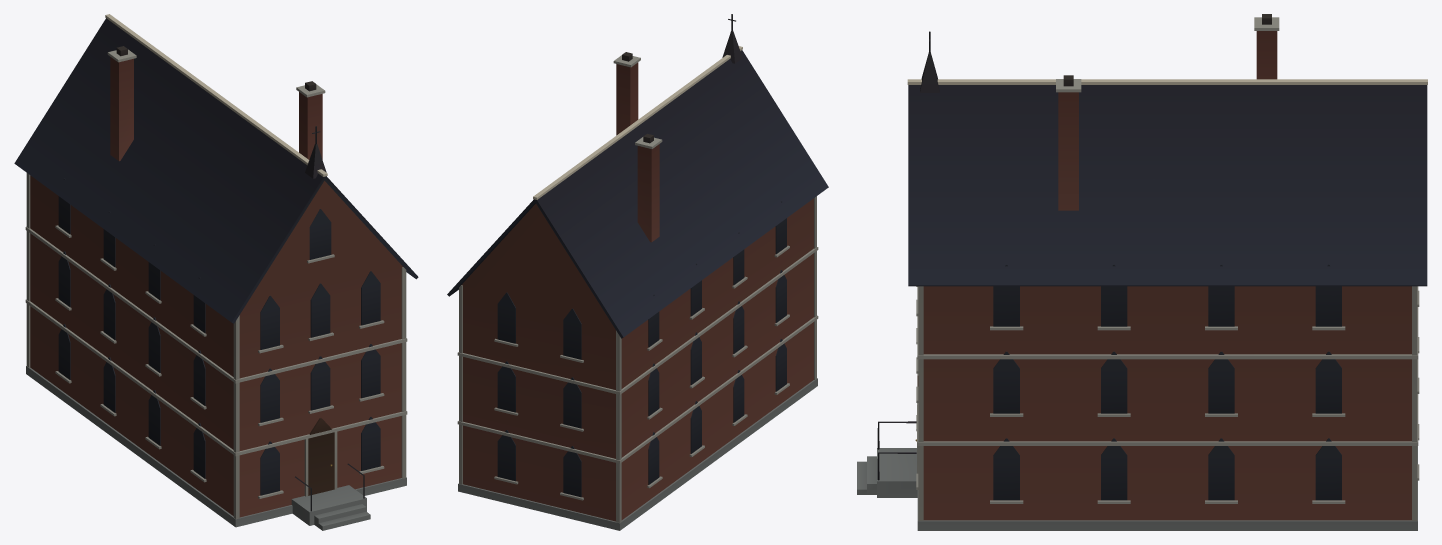
File: shell_wormwood_townhouse.glb
The picture shows the model from 3 angles, left to right: view 1: azimuth 30°, elevation 25°; view 2: azimuth 150°, elevation 25°; view 3: azimuth 270°, elevation 25°; orthographic projection. The views are drawn at different scales.
Visible parts, largest first — view 1: shell_wormwood_townhouse; view 2: shell_wormwood_townhouse; view 3: shell_wormwood_townhouse.
Part boxes in pixels (x1,y1,x2,y2): shell_wormwood_townhouse: (14, 14, 418, 530); shell_wormwood_townhouse: (447, 14, 828, 530); shell_wormwood_townhouse: (857, 14, 1427, 530).
Bounding box in the file's own units: 7.79 × 15 × 17.27.
